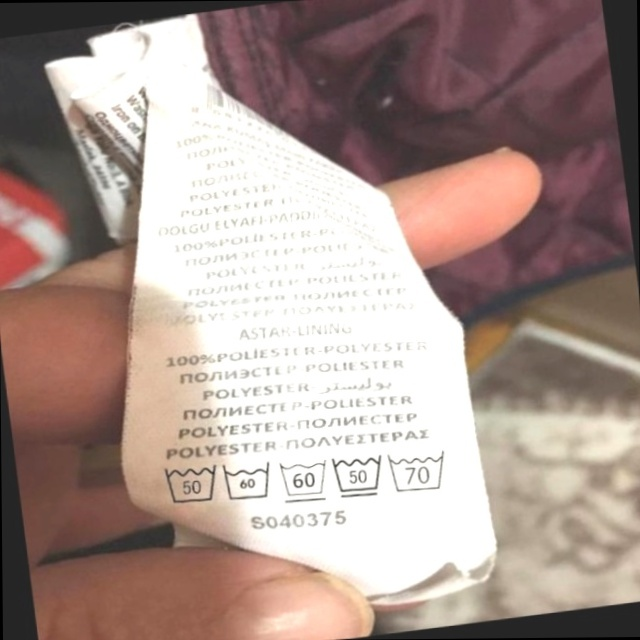50C: (156, 454, 225, 512), (328, 448, 390, 504)
60C: (276, 452, 335, 507), (219, 455, 279, 508)
70C: (386, 444, 456, 497)
